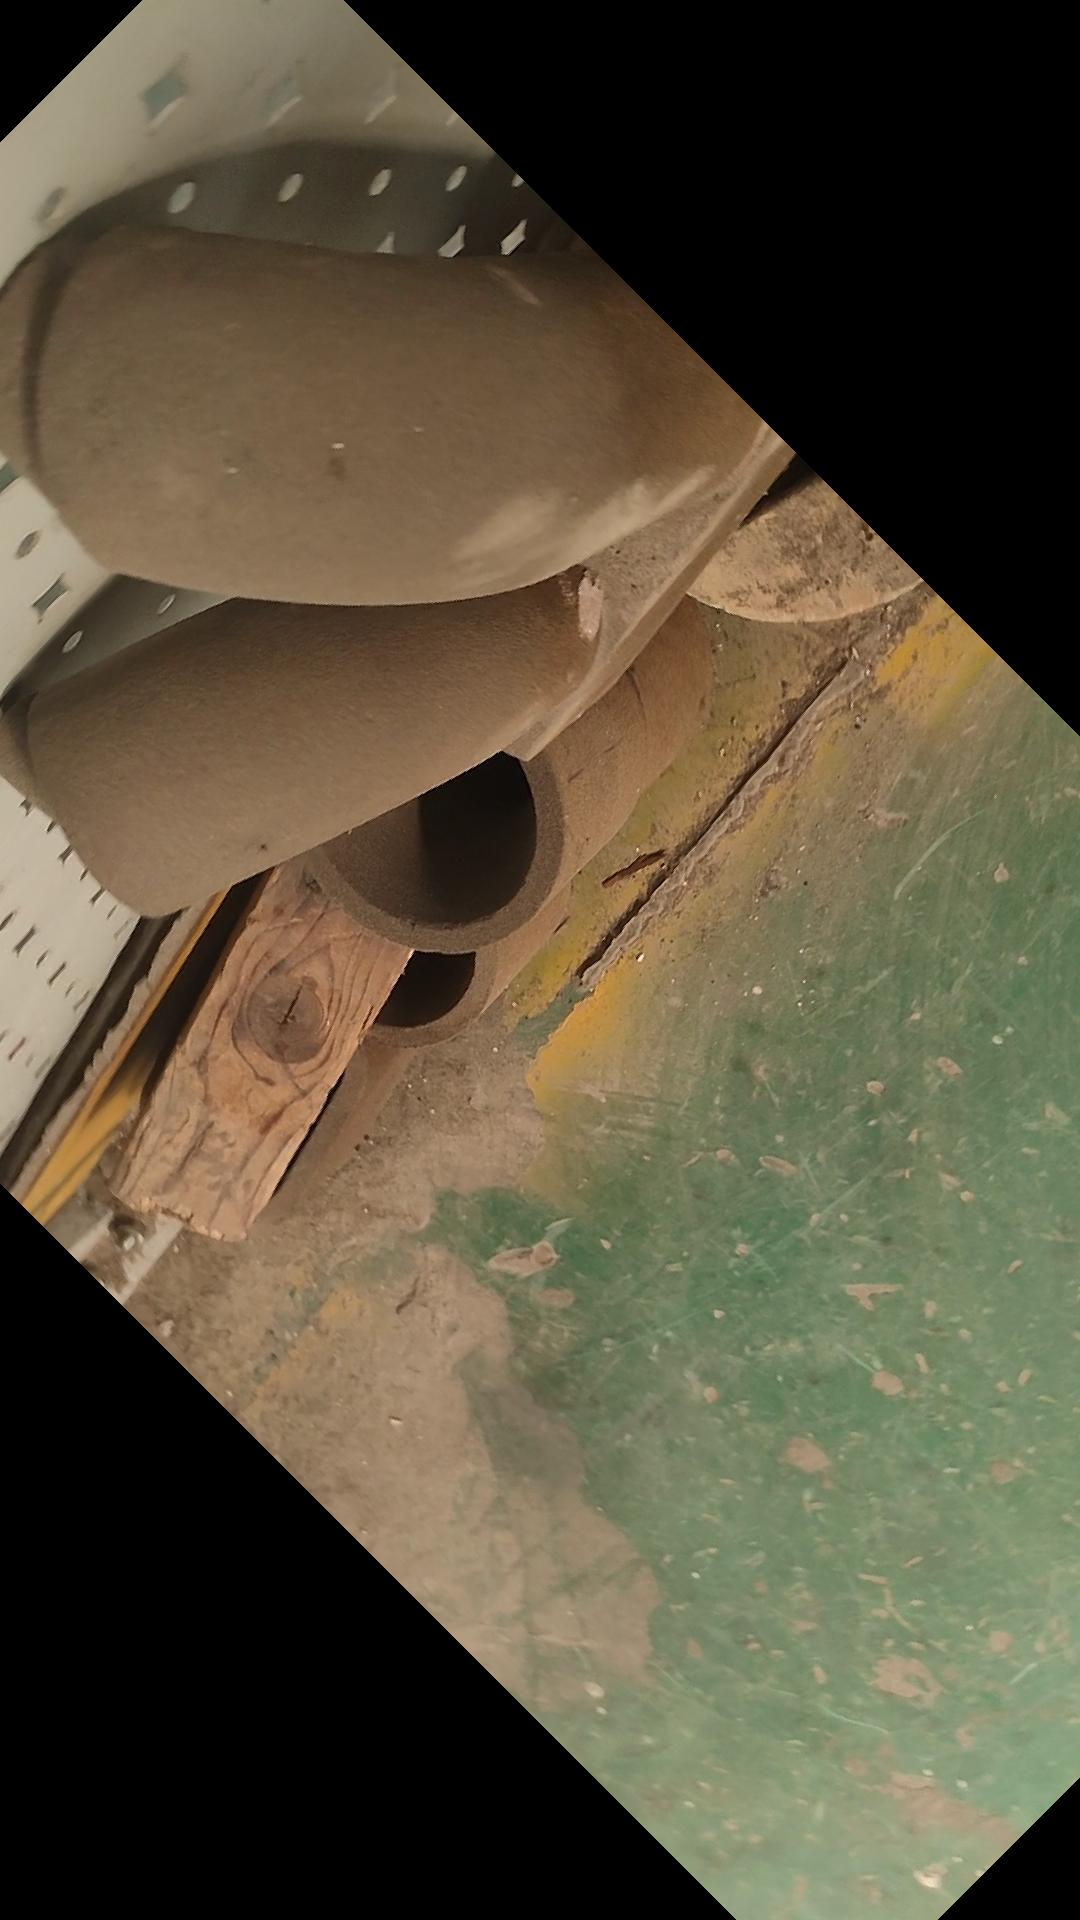pouring hole: (311, 711, 535, 926), (302, 872, 475, 1025)
